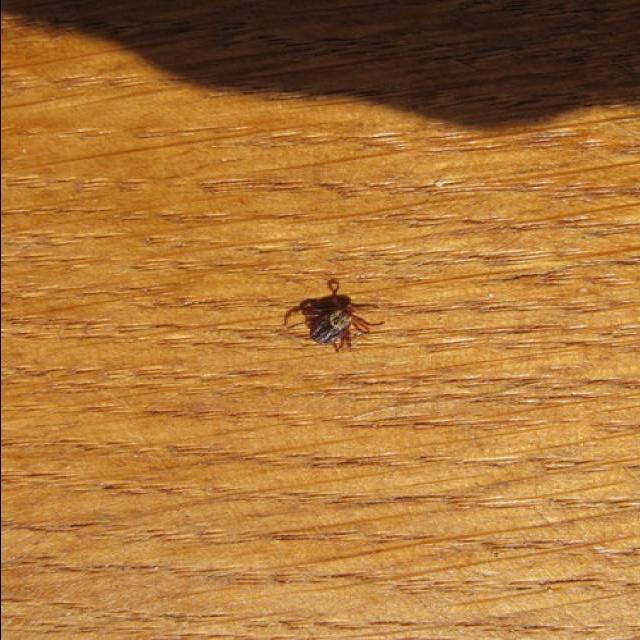Dermacentor Reticulatus-F: (283, 293, 384, 352)
